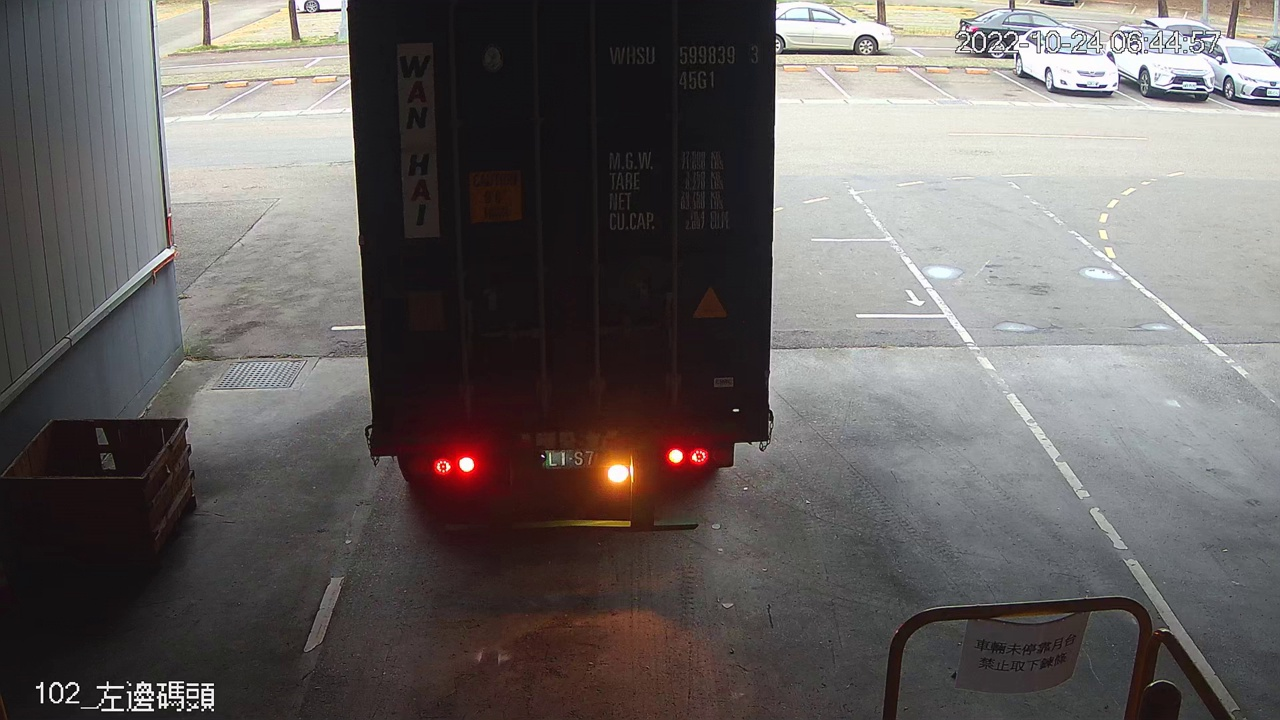container: (601, 35, 765, 95)
